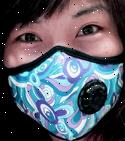with_mask: (1, 2, 125, 141)
